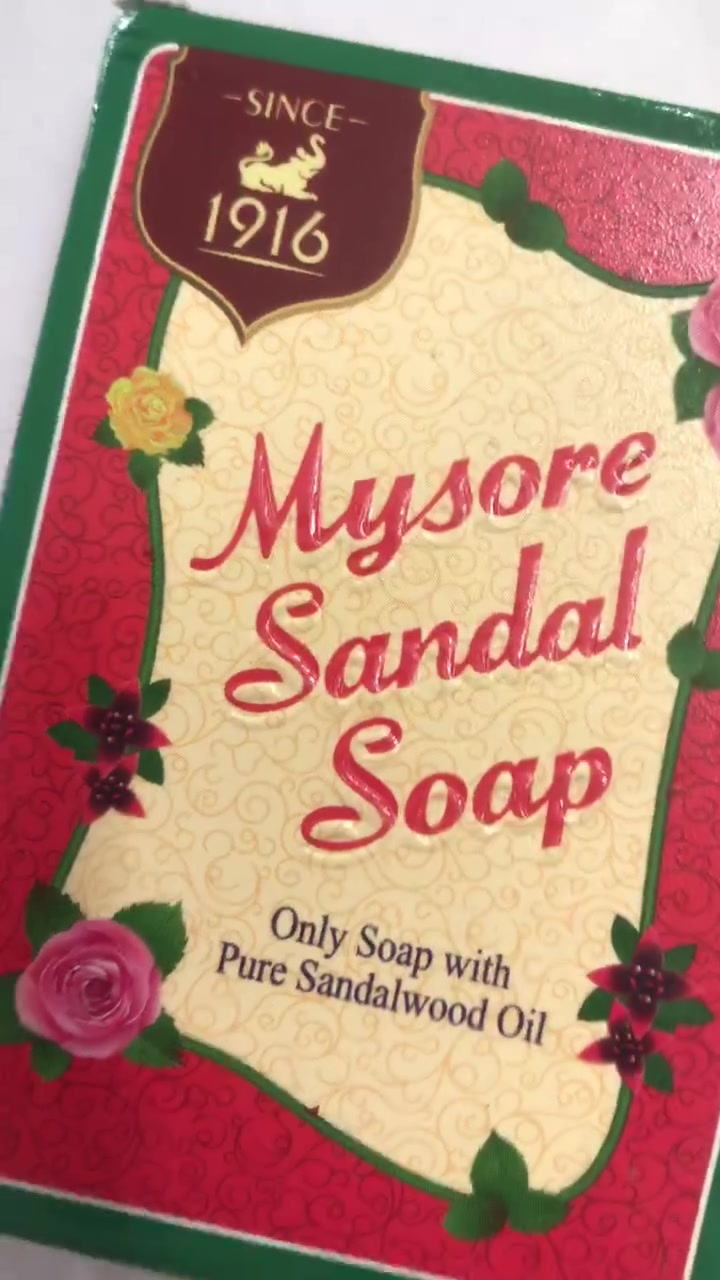mysore sandal soap: (71, 275, 706, 1123)
